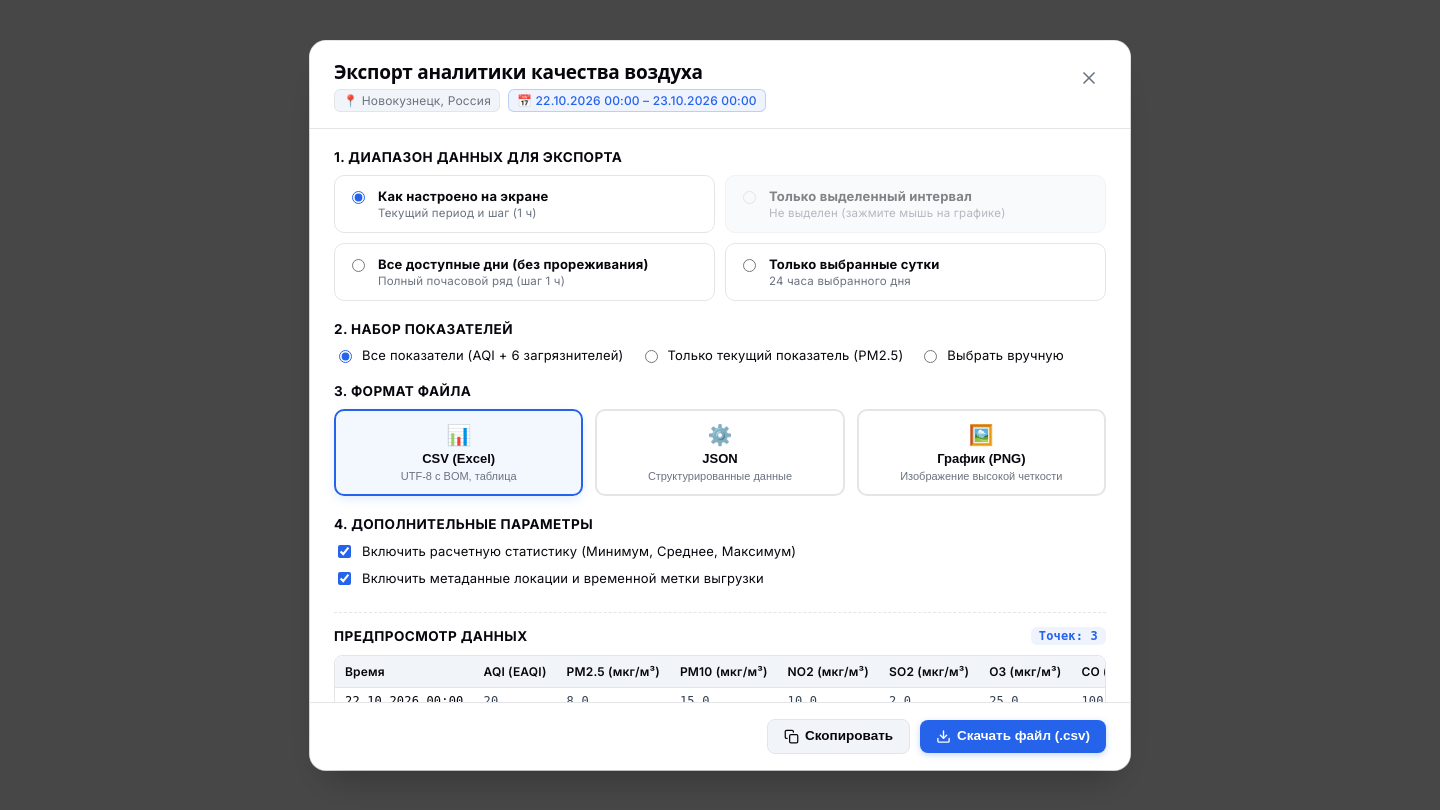
AnalyticsExportModal component › toggles metric modes: all, active_only, and custom selection
Expected: the radio button with test id "metric-mode-all" is checked, [339,350,352,363]
Click the radio button with test id "metric-mode-active": click(651, 356) [644,350,658,363]
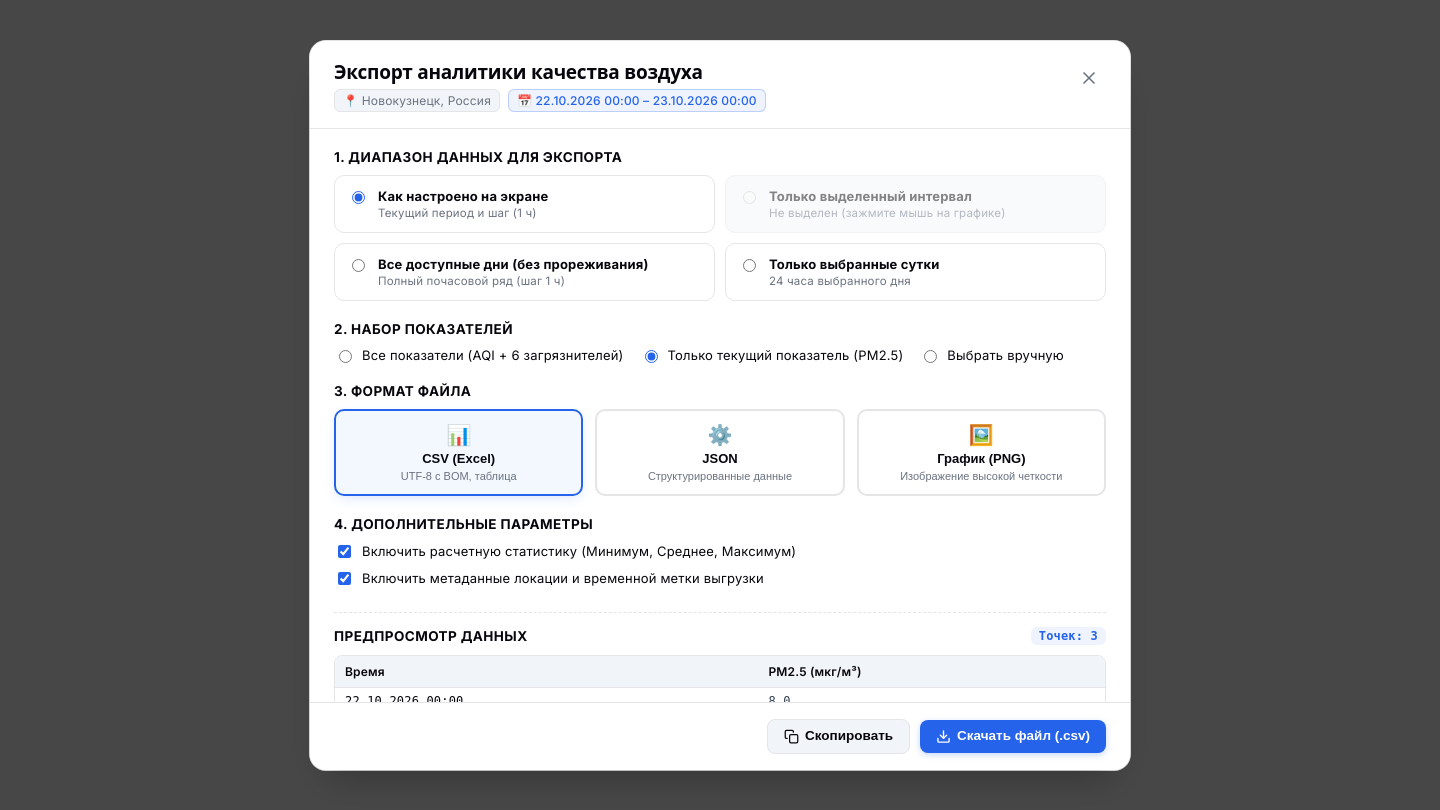
Expected: the radio button with test id "metric-mode-active" is checked, [644,350,658,363]
Click the radio button with test id "metric-mode-custom": click(931, 356) [924,350,937,363]
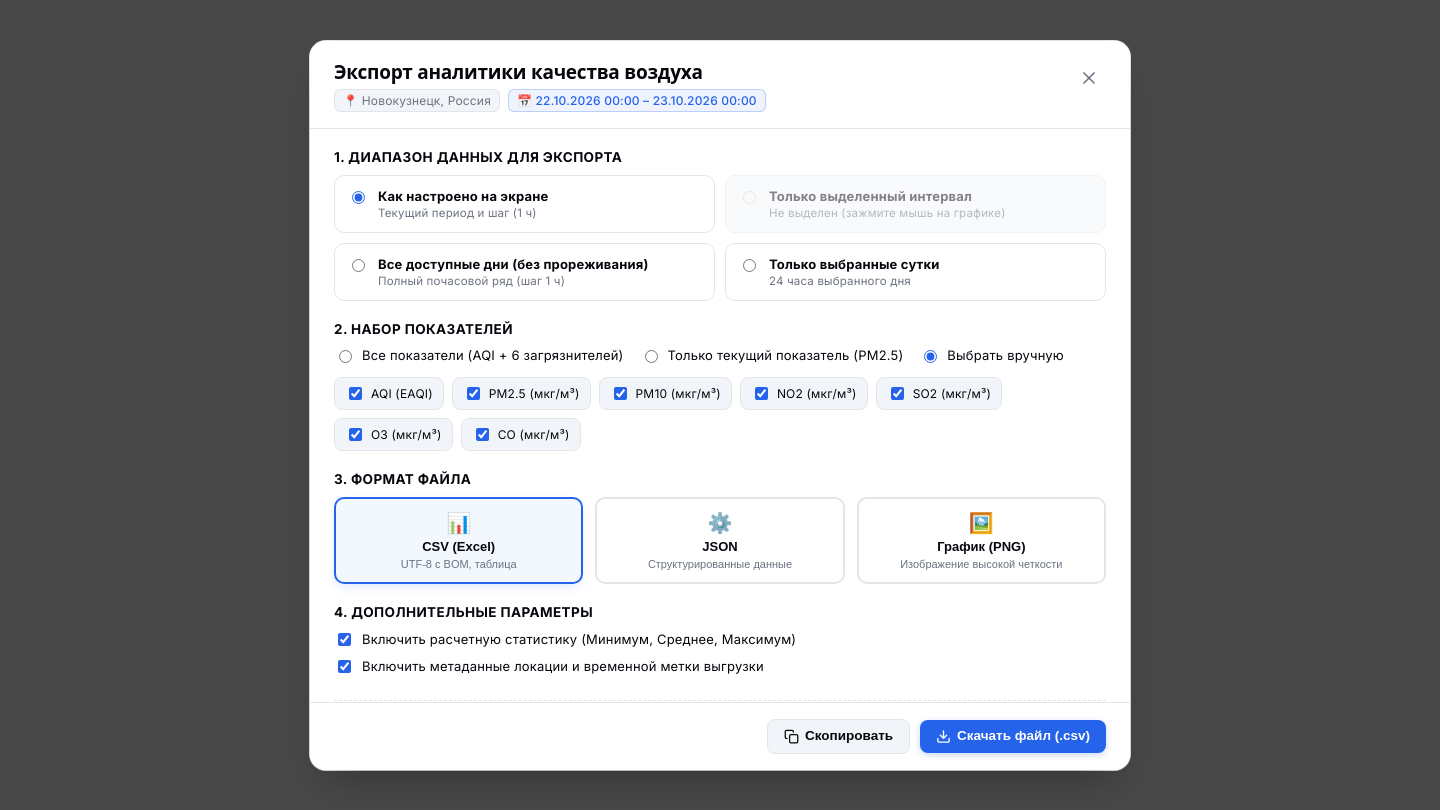
Expected: the radio button with test id "metric-mode-custom" is checked, [924,350,937,363]
Expected: the element with test id "export-metric-checkboxes" is shown, [334,377,1106,451]
Expected: the checkbox with test id "checkbox-metric-aqi" is checked
Click the checkbox with test id "checkbox-metric-aqi": click(356, 393) [349,387,362,400]
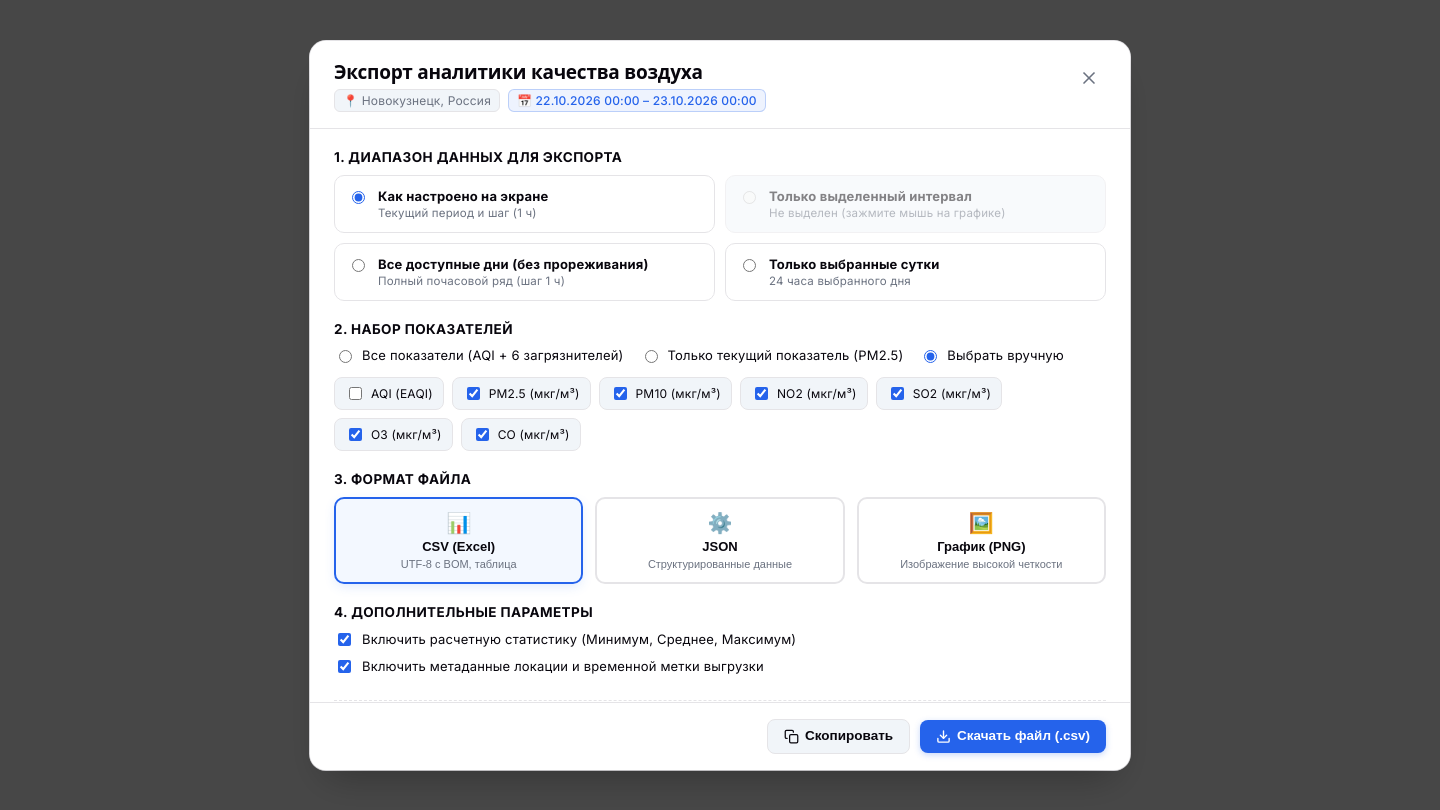
Expected: the checkbox with test id "checkbox-metric-aqi" is not checked, [349,387,362,400]
